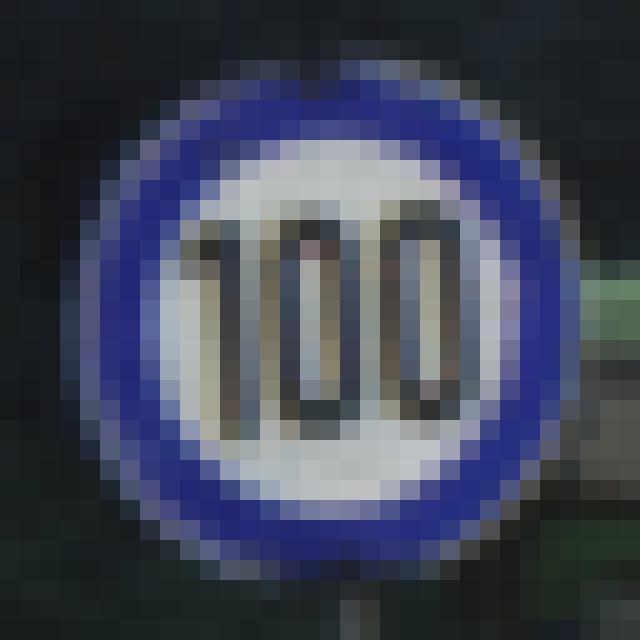SPEED LIMIT 100: (64, 61, 574, 592)
